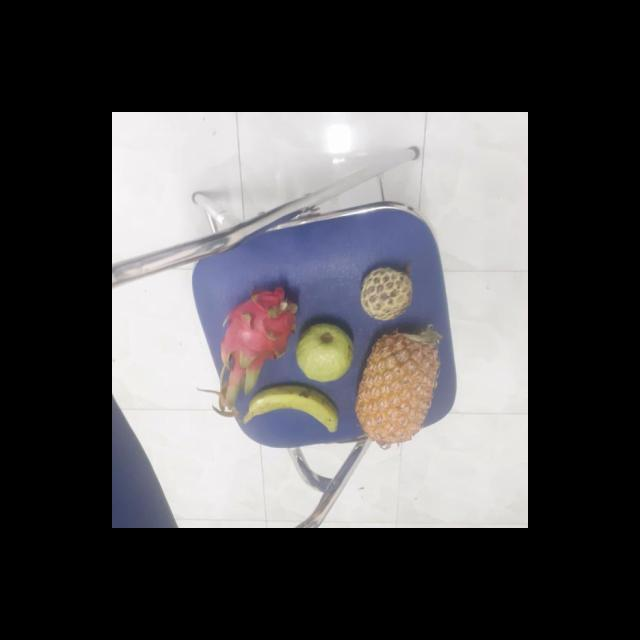Sakya fruit: (358, 266, 414, 321)
guava: (296, 321, 358, 384)
pineapple: (357, 326, 442, 446)
pitaya: (219, 290, 303, 394)
